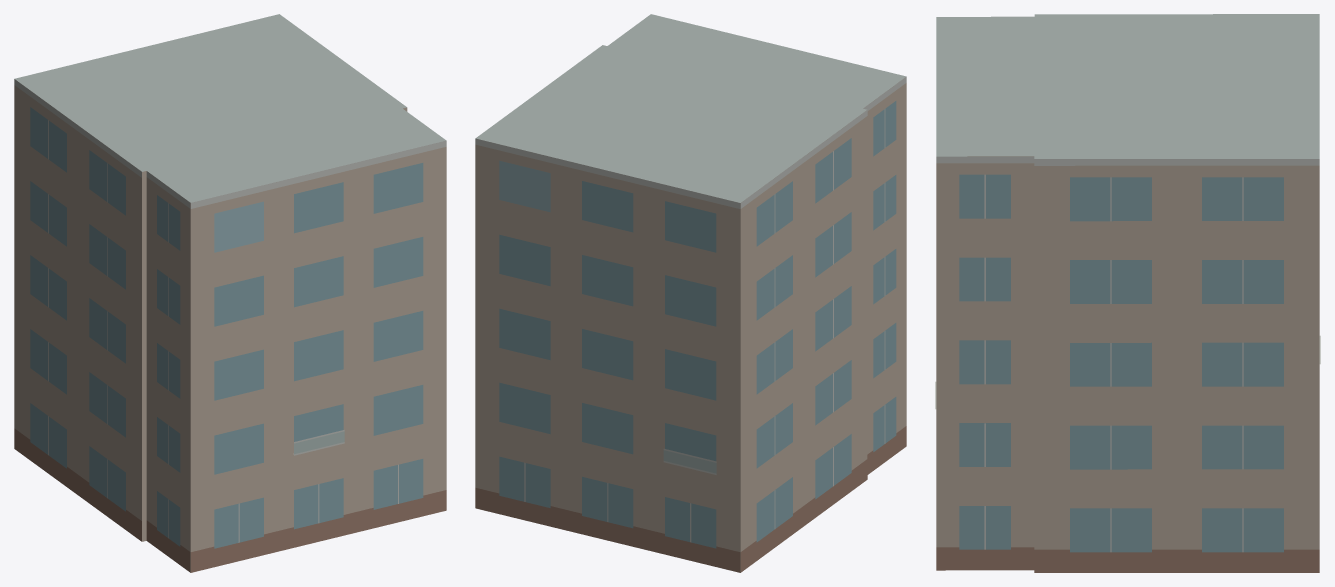
File: survey-upis-32748788.glb
3 renders of one model, left to right at view 1: azimuth 30°, elevation 25°; view 2: azimuth 150°, elevation 25°; view 3: azimuth 270°, elevation 25°, orthographic. The views are drawn at different scales.
Visible parts, largest first — view 1: survey-upis-32748788.tmp; view 2: survey-upis-32748788.tmp; view 3: survey-upis-32748788.tmp.
Part boxes in pixels (x1,y1,x2,y2): survey-upis-32748788.tmp: [14, 14, 446, 572]; survey-upis-32748788.tmp: [475, 14, 906, 572]; survey-upis-32748788.tmp: [935, 14, 1320, 572].
Bounding box in the file's own units: 11.05 × 14.7 × 12.42.
